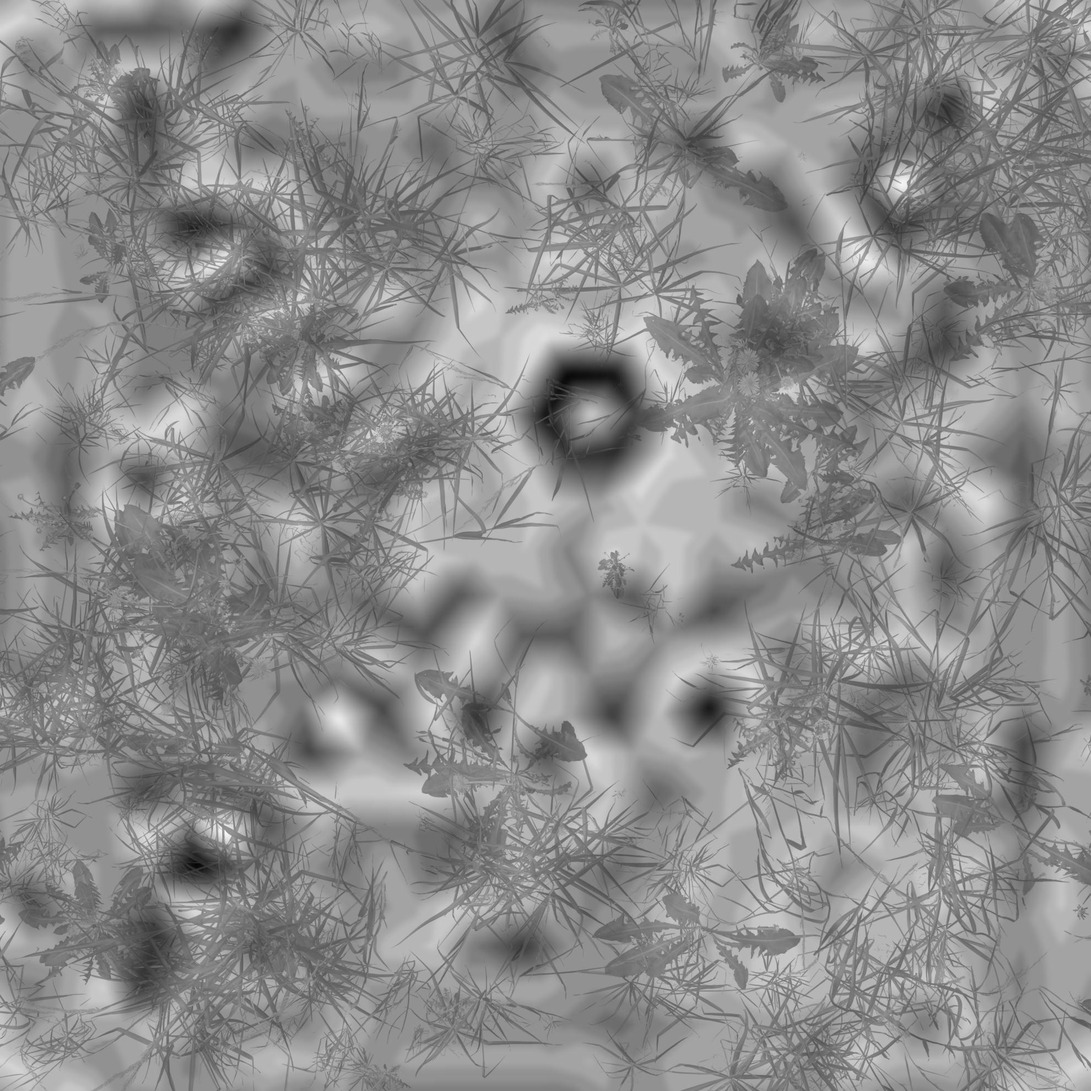landmine: (520, 349, 648, 476)
